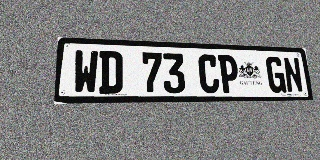3: (163, 53, 185, 93)
7: (141, 52, 163, 93)
C: (198, 54, 220, 93)
D: (99, 51, 123, 94)
G: (265, 56, 287, 93)
N: (283, 57, 304, 93)
P: (218, 55, 240, 93)
W: (73, 50, 99, 94)
